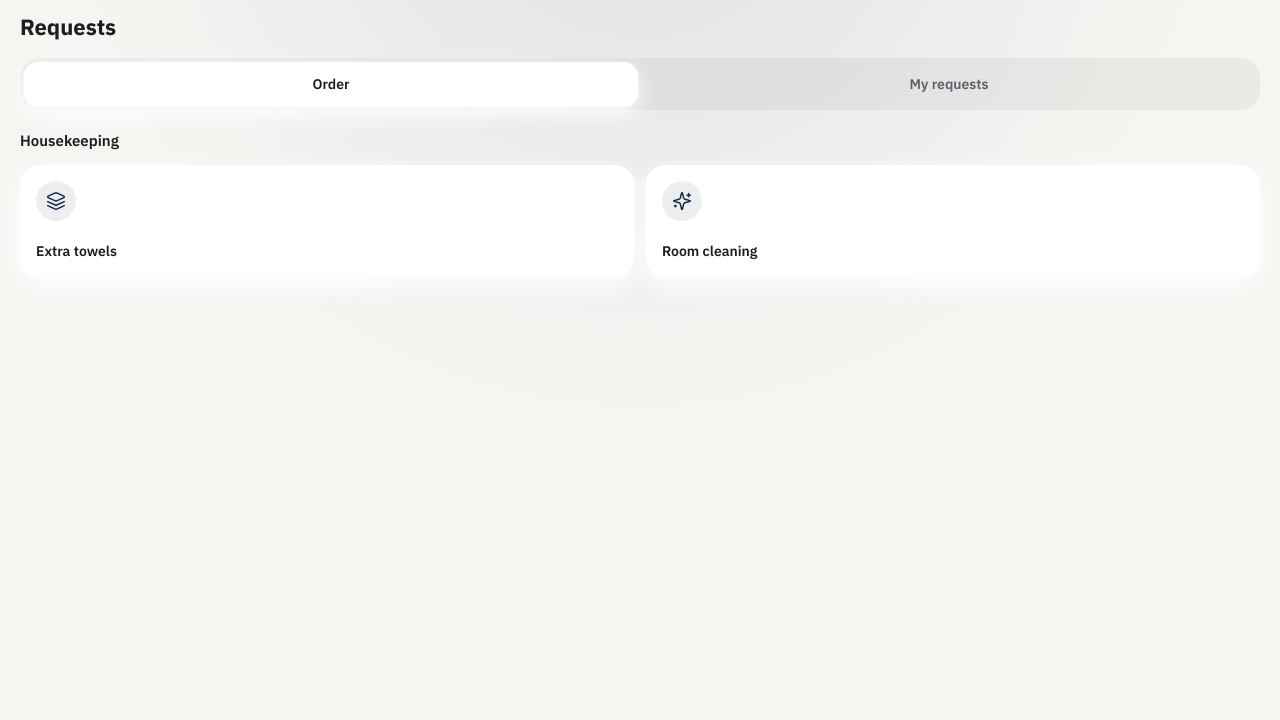
Scenario: RequestsScreen (15.2) › AC3 — tap item → sheet with quantity stepper → submit → confirmation
What coordinates should you click on to do the following:
click the button with test id "catalog-item-item-towels"
I would click on:
 (56, 201)
Its box is [20,165,634,277].
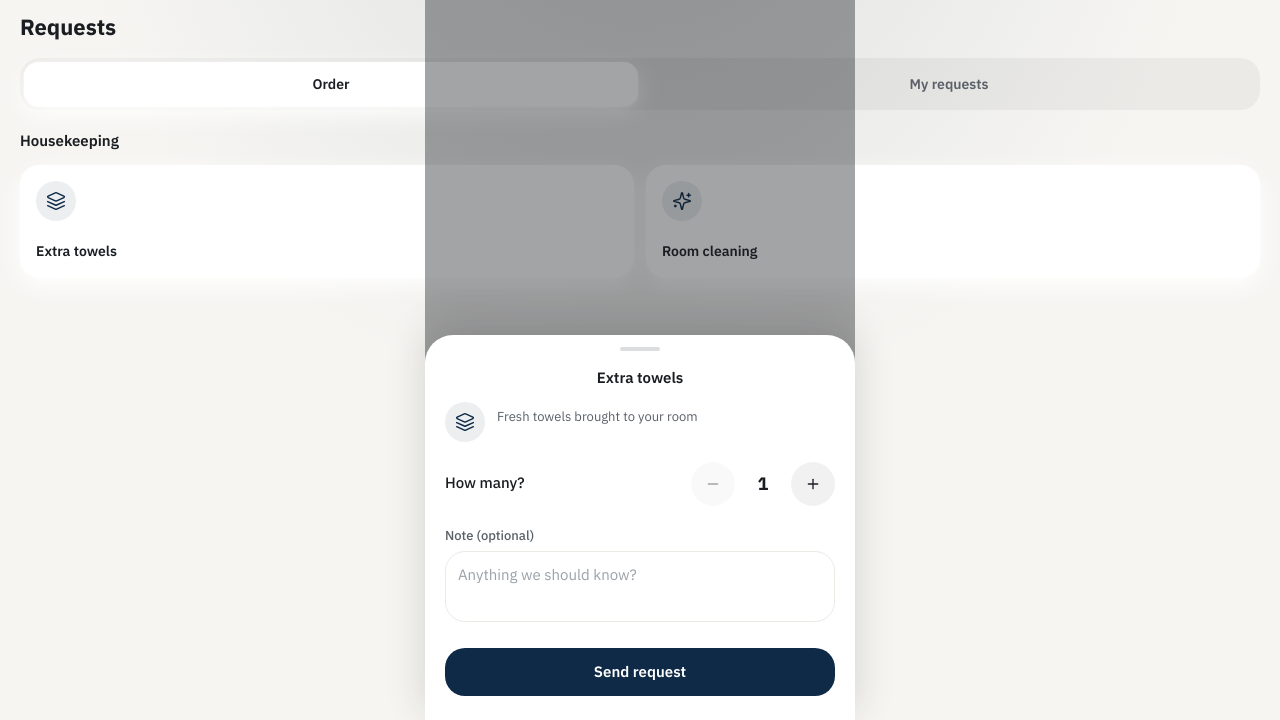
Result: the dialog with test id "bottom-sheet" is shown at [425,335,855,719]
Result: the text "How many?" is shown at [445,472,525,495]
What coordinates should you click on to do the following:
click the button "Send request"
I would click on:
 (640, 672)
Its box is [445,648,835,696].
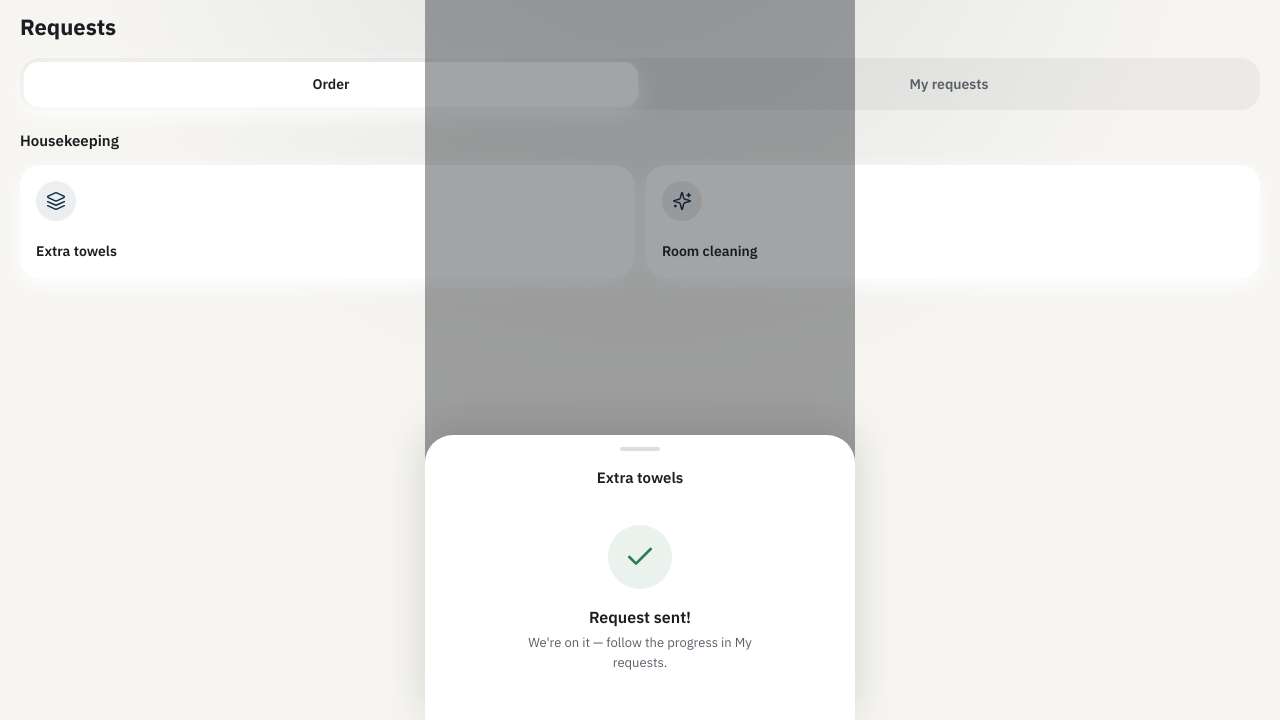
Result: the text "Request sent!" is shown at [589,605,691,629]
